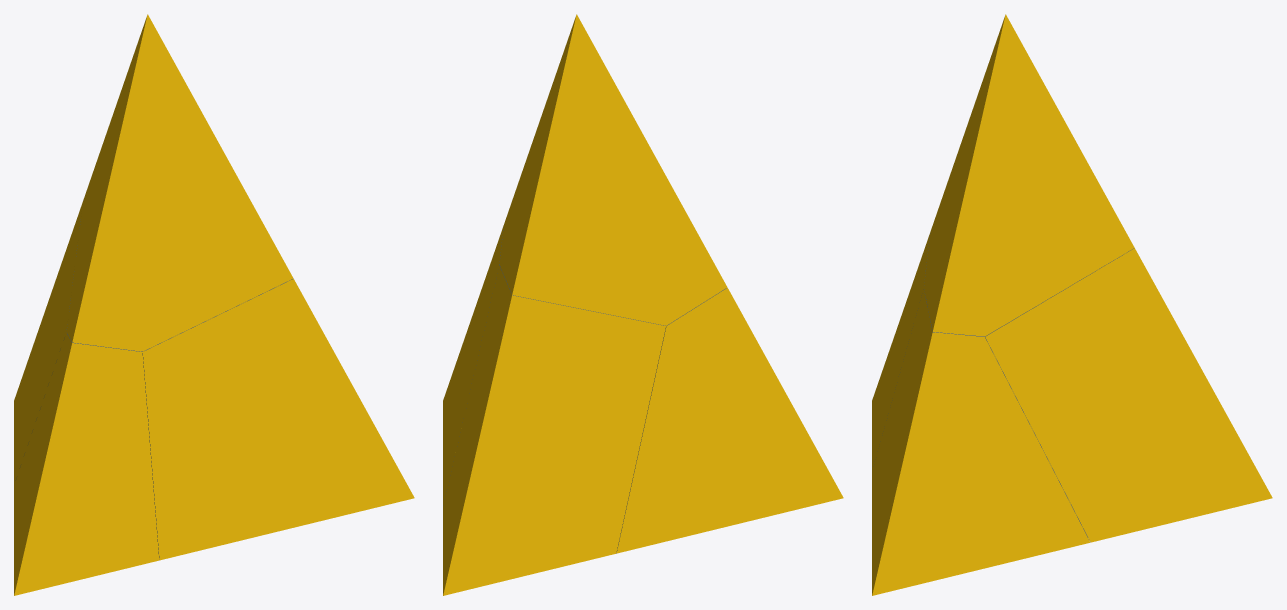
Rendered from triangleFracture3.glb.
3 views of the same model, side by side, from view 1: azimuth 30°, elevation 25°; view 2: azimuth 150°, elevation 25°; view 3: azimuth 270°, elevation 25° (orthographic).
Parts seen in each view (by area): view 1: Cone_cell.001, Cone_cell.003, Cone_cell.002, Cone_cell; view 2: Cone_cell, Cone_cell.003, Cone_cell.002, Cone_cell.001; view 3: Cone_cell, Cone_cell.001, Cone_cell.003, Cone_cell.002.
Part boxes in pixels (x1,y1,x2,y2): Cone_cell.001: (142, 278, 414, 560); Cone_cell.003: (66, 14, 293, 351); Cone_cell.002: (14, 332, 159, 595); Cone_cell: (14, 202, 82, 484); Cone_cell: (443, 265, 665, 595); Cone_cell.003: (499, 14, 727, 325); Cone_cell.002: (616, 287, 843, 553); Cone_cell.001: (443, 226, 503, 506); Cone_cell: (985, 248, 1272, 542); Cone_cell.001: (872, 288, 1090, 595); Cone_cell.003: (924, 14, 1134, 336); Cone_cell.002: (872, 234, 929, 470).
Size of the model in its own units: 3.14 by 3.62 by 2.72.
